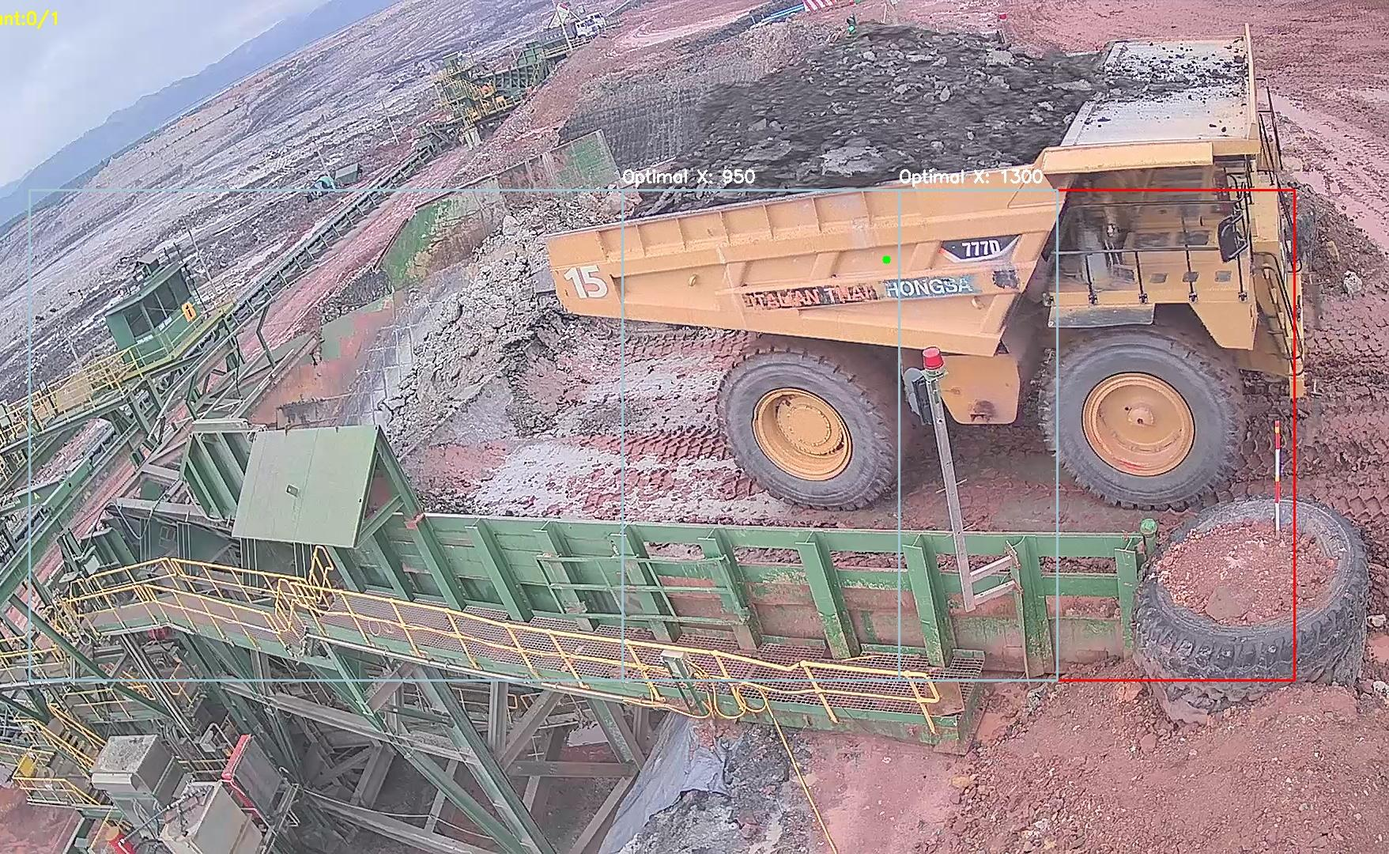company: (735, 269, 979, 316)
full_load: (691, 28, 1051, 192)
mining_truck: (529, 15, 1317, 515)
tail_number: (561, 260, 614, 306)
truck_size: (955, 235, 1005, 261)
